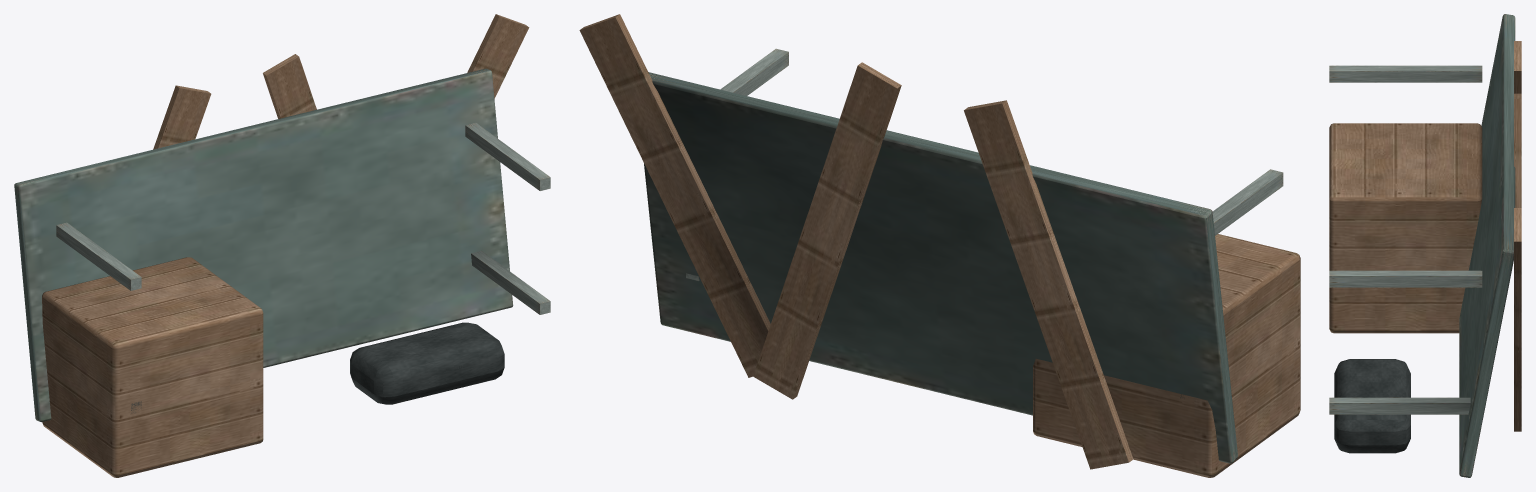
Rendered from barricade.glb.
3 renders of one model, left to right at view 1: azimuth 30°, elevation 25°; view 2: azimuth 150°, elevation 25°; view 3: azimuth 270°, elevation 25°, orthographic. The views are drawn at different scales.
Parts seen in each view (by area): view 1: Barricade; view 2: Barricade; view 3: Barricade.
Boxes of the visible parts, left/top/right/bottom form: Barricade: left=14, top=14, right=550, bottom=477; Barricade: left=579, top=14, right=1300, bottom=477; Barricade: left=1329, top=14, right=1521, bottom=477.
Size of the model in its own units: 2.39 by 1.29 by 0.755.
Materials: 1 (1 with a texture image).
